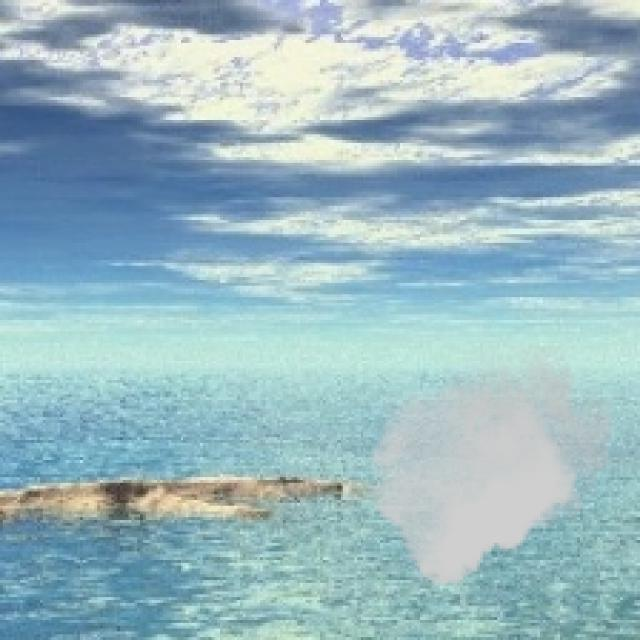smoke: (368, 346, 612, 586)
